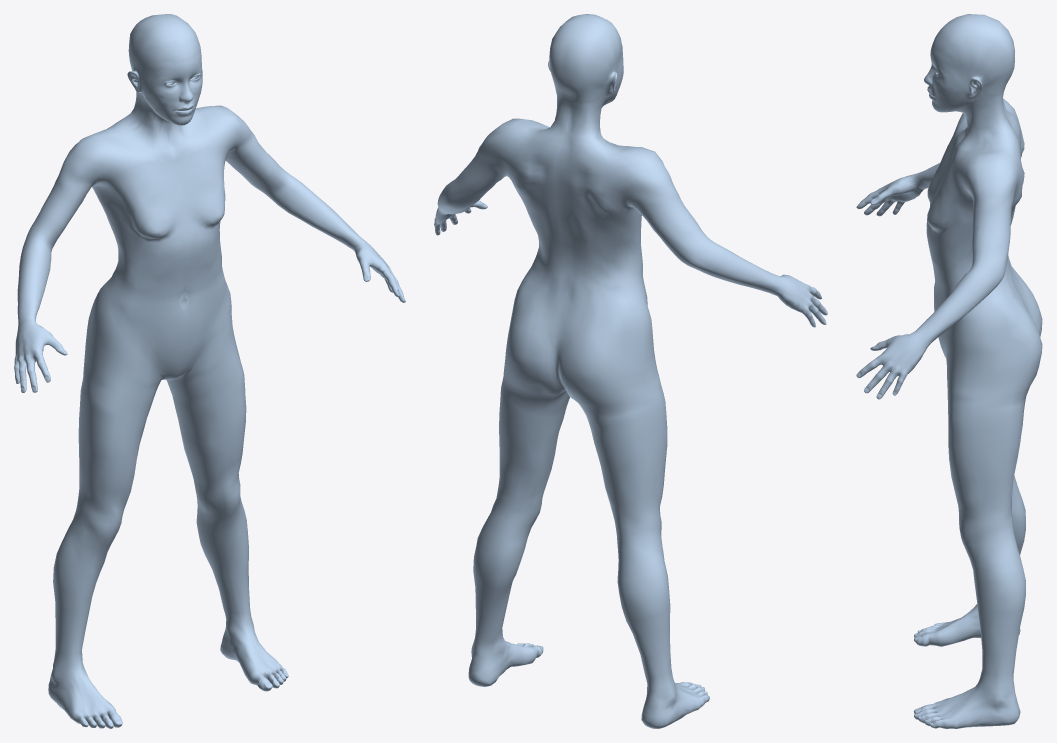
The model's file is makehuman-preview-body.glb.
3 views of the same model, side by side, from view 1: azimuth 30°, elevation 25°; view 2: azimuth 150°, elevation 25°; view 3: azimuth 270°, elevation 25° (orthographic).
Parts seen in each view (by area): view 1: makehuman-base-body; view 2: makehuman-base-body; view 3: makehuman-base-body.
Part boxes in pixels (x1,y1,x2,y2): makehuman-base-body: [14, 14, 405, 728]; makehuman-base-body: [434, 14, 827, 728]; makehuman-base-body: [856, 14, 1042, 728].
Size of the model in its own units: 1.19 by 2 by 0.5078.
